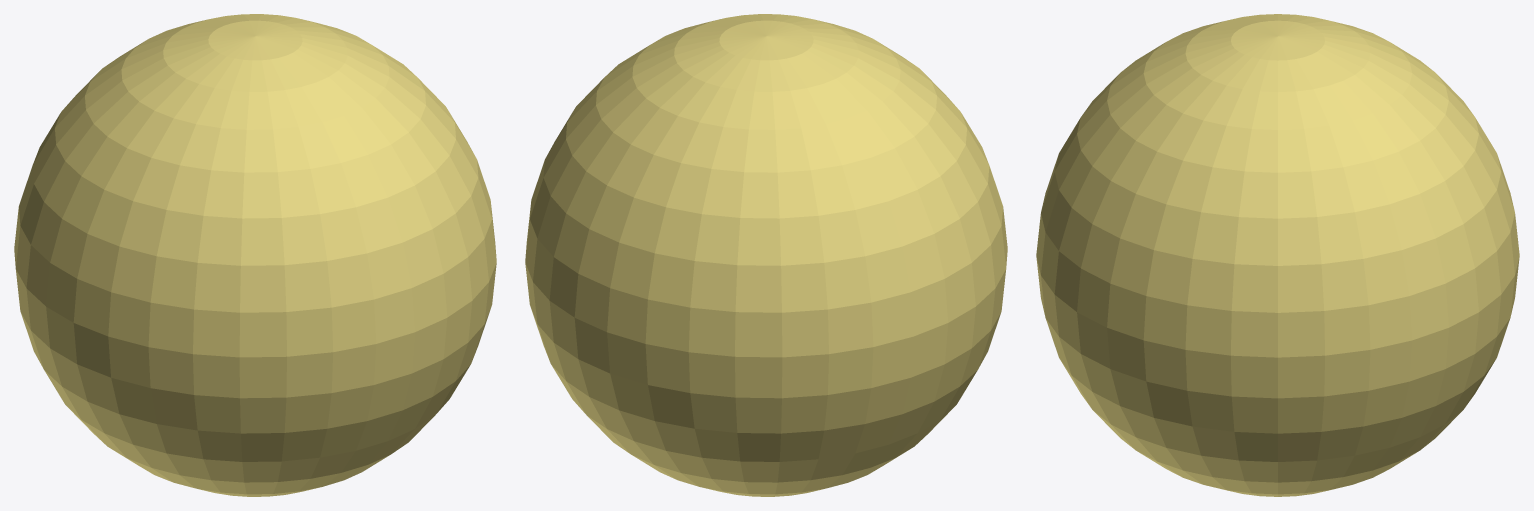
Rendered from amoeba  1.gltf.
3 views of the same model, side by side, from view 1: azimuth 30°, elevation 25°; view 2: azimuth 150°, elevation 25°; view 3: azimuth 270°, elevation 25° (orthographic).
Parts seen in each view (by area): view 1: Sphere; view 2: Sphere; view 3: Sphere.
Part boxes in pixels (box(x1,y1,x2,y2)): Sphere: box(14, 14, 496, 496); Sphere: box(525, 14, 1007, 496); Sphere: box(1036, 14, 1519, 496).
Bounding box in the file's own units: 2 × 2 × 2.
